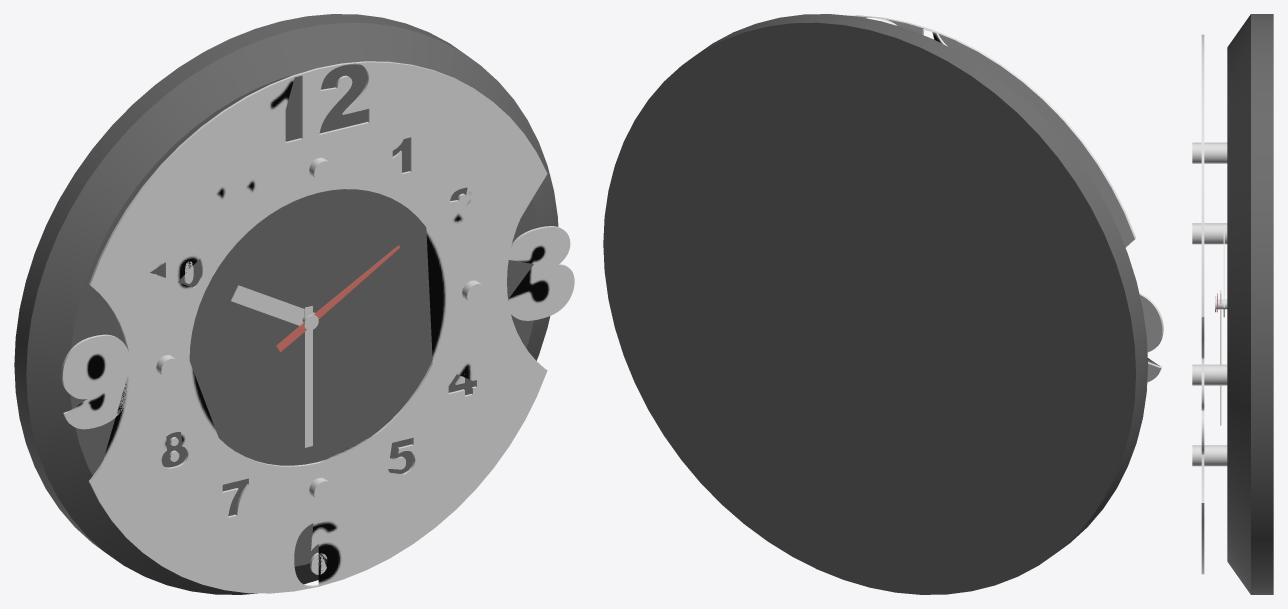
Rendered from Clock.obj.
3 views of the same model, side by side, from view 1: azimuth 30°, elevation 25°; view 2: azimuth 150°, elevation 25°; view 3: azimuth 270°, elevation 25° (orthographic). The views are drawn at different scales.
Parts seen in each view (by area): view 1: Clock; view 2: Clock; view 3: Clock.
Part boxes in pixels (x1,y1,x2,y2): Clock: [14, 14, 574, 594]; Clock: [603, 14, 1163, 594]; Clock: [1192, 14, 1273, 594].
Size of the model in its own units: 2 by 2 by 0.2791.
Materials: 1 (1 with a texture image).
